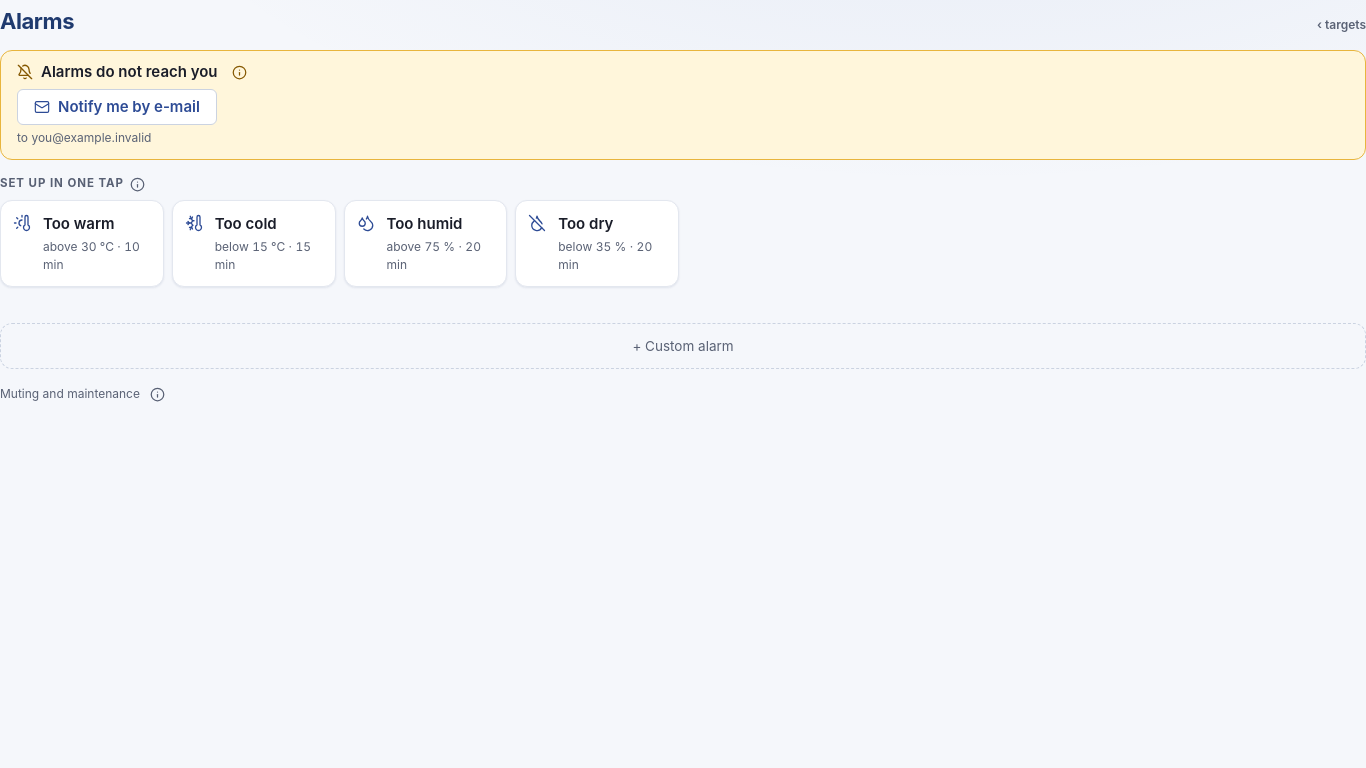
the rule sheet › offers a fan the temperature, humidity and VPD it measures, not its output alone
Click the button "+ Custom alarm". click: (683, 346)
box: left=0, top=323, right=1365, bottom=369
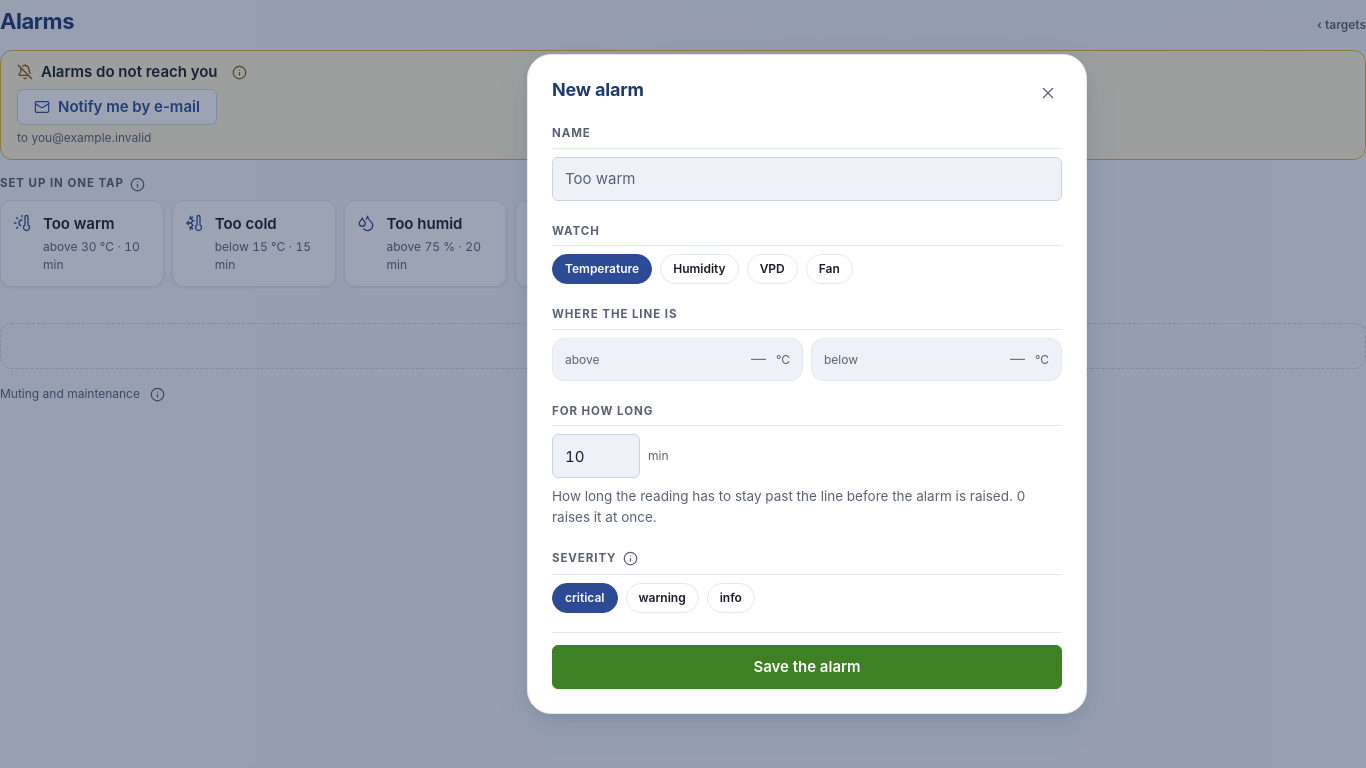
Expected: the button "Humidity" is shown, left=660, top=254, right=739, bottom=284
Expected: the button "VPD" is shown, left=747, top=254, right=798, bottom=284
Expected: the button "Fan" is shown, left=806, top=254, right=853, bottom=284
